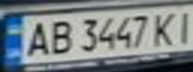3: (75, 16, 100, 53)
4: (97, 14, 118, 52), (115, 14, 136, 50)
7: (130, 11, 154, 48)
A: (21, 18, 54, 58)
B: (45, 17, 75, 56)
I: (172, 7, 193, 44)
K: (151, 8, 181, 46)
